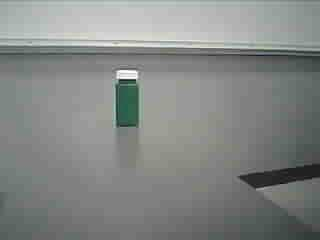Bottle C: (107, 64, 148, 136)
